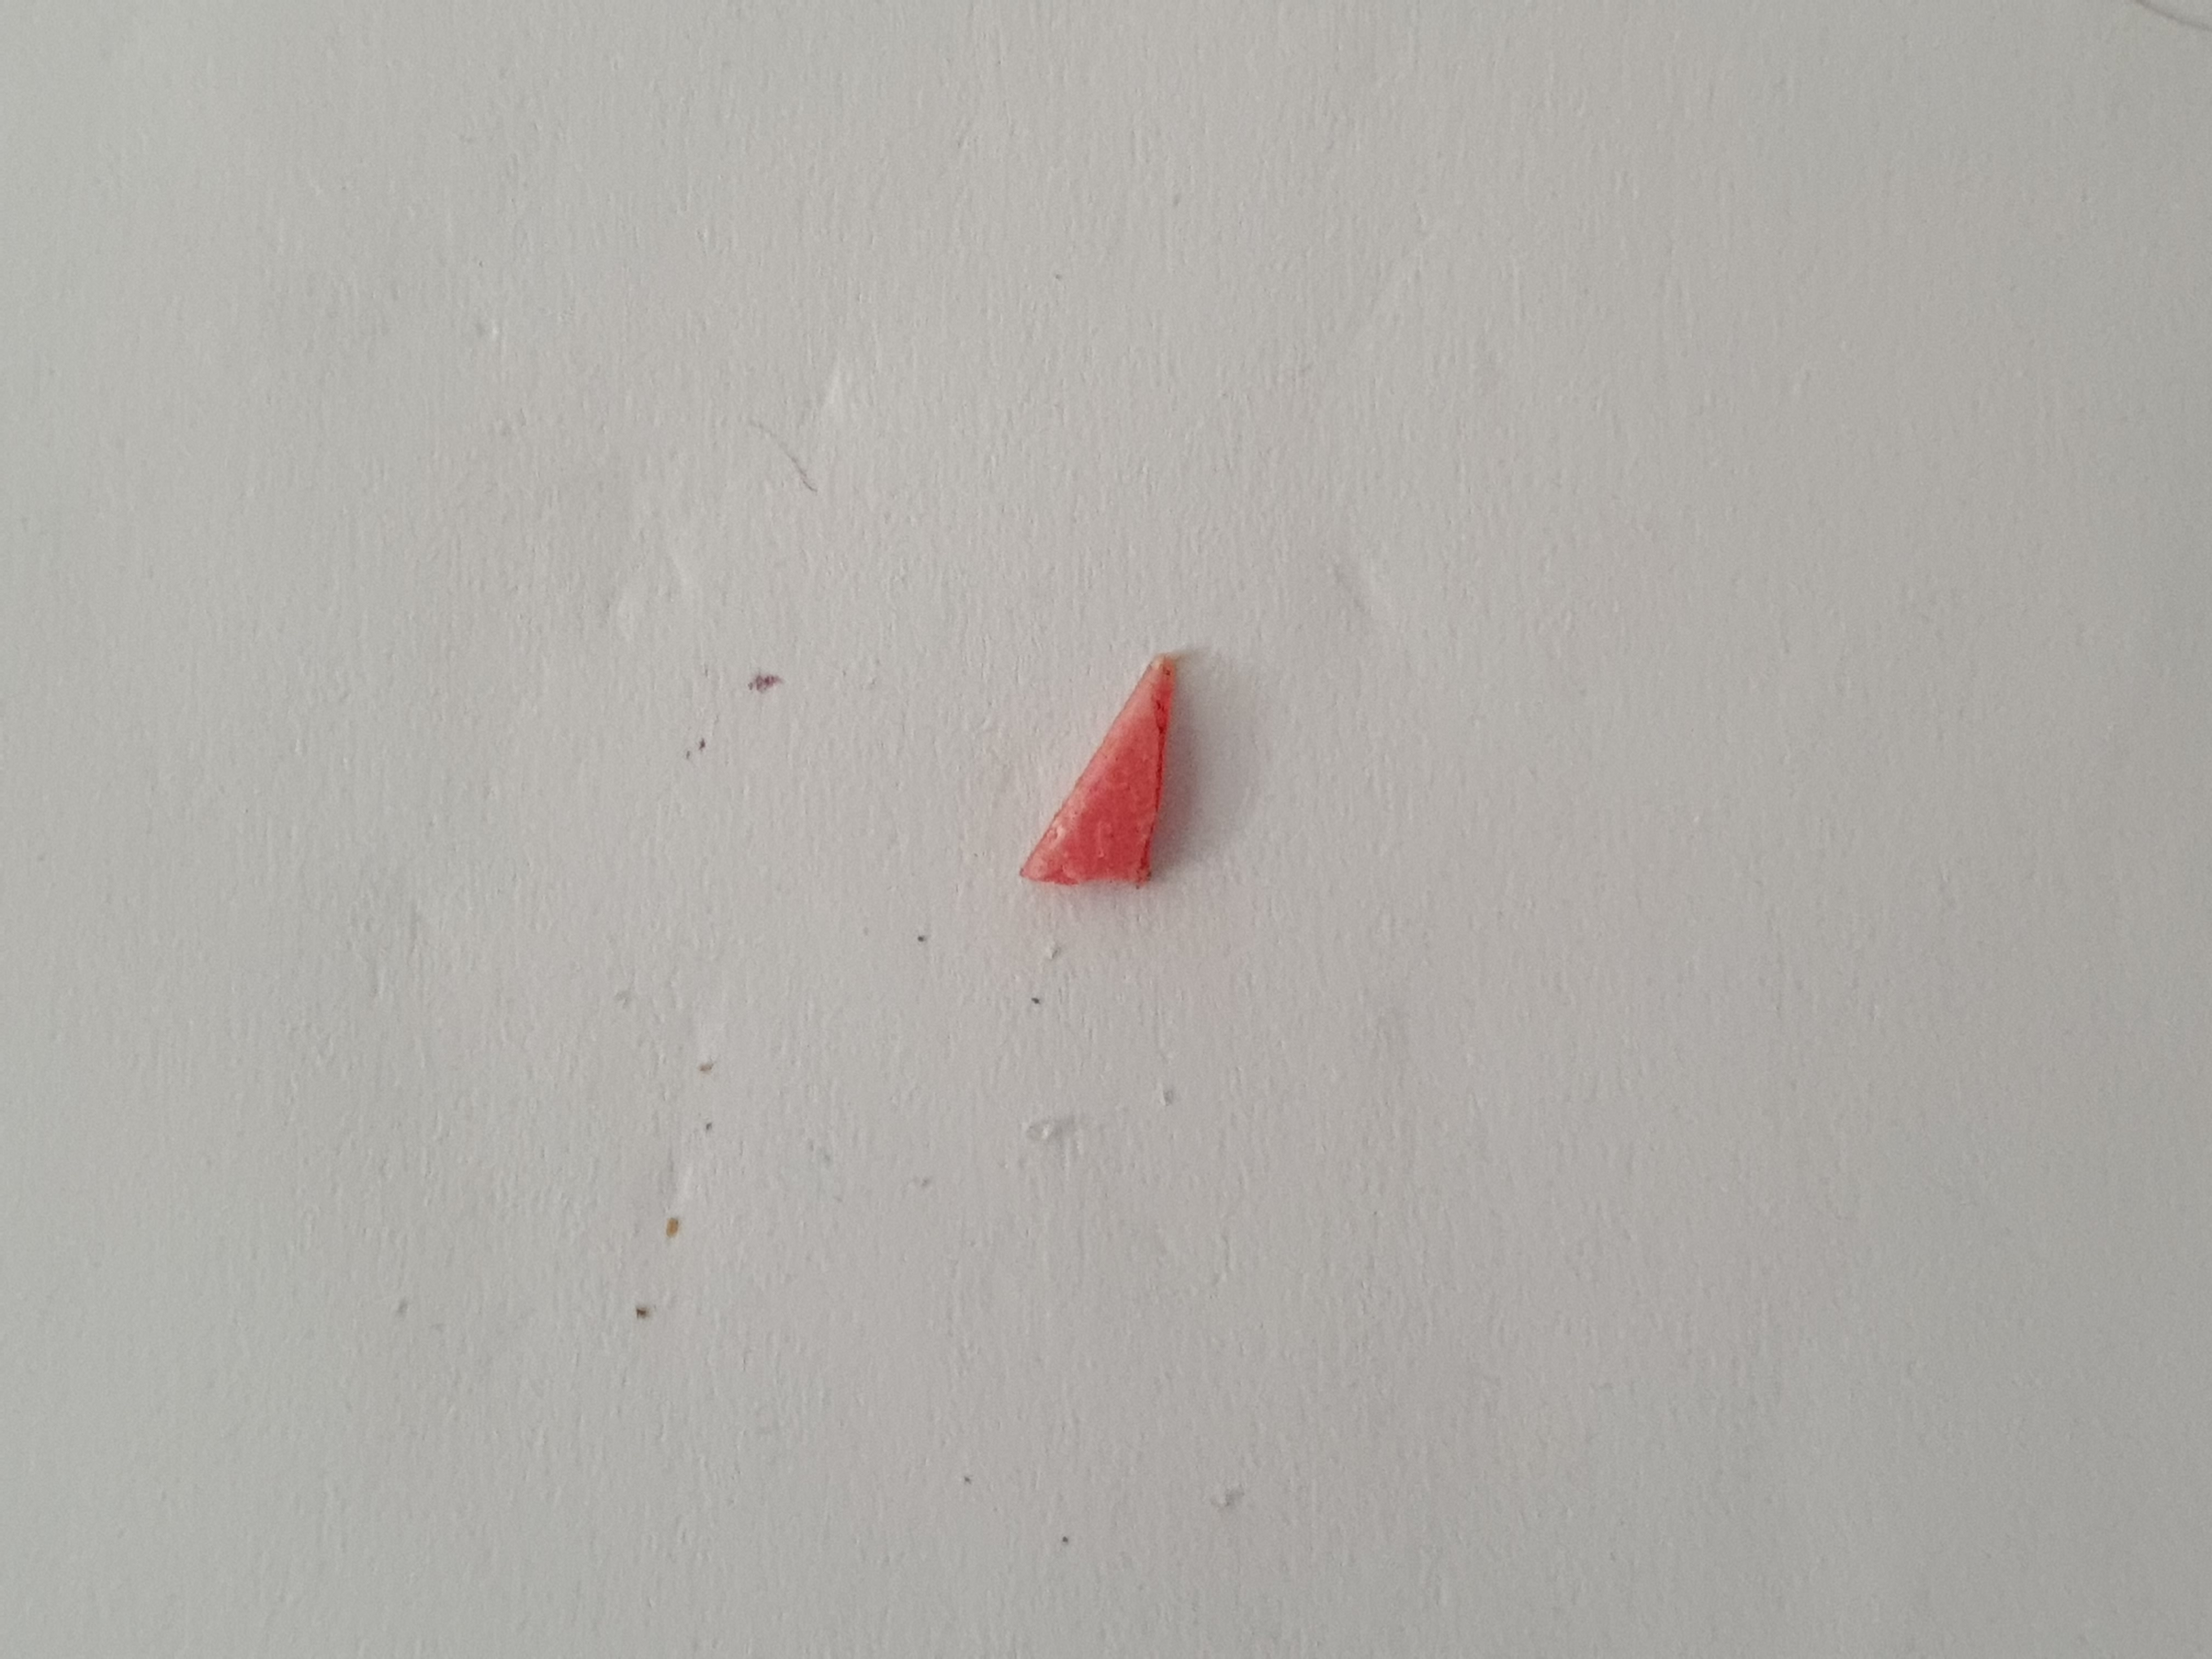plastic: (1005, 622, 1207, 911)
